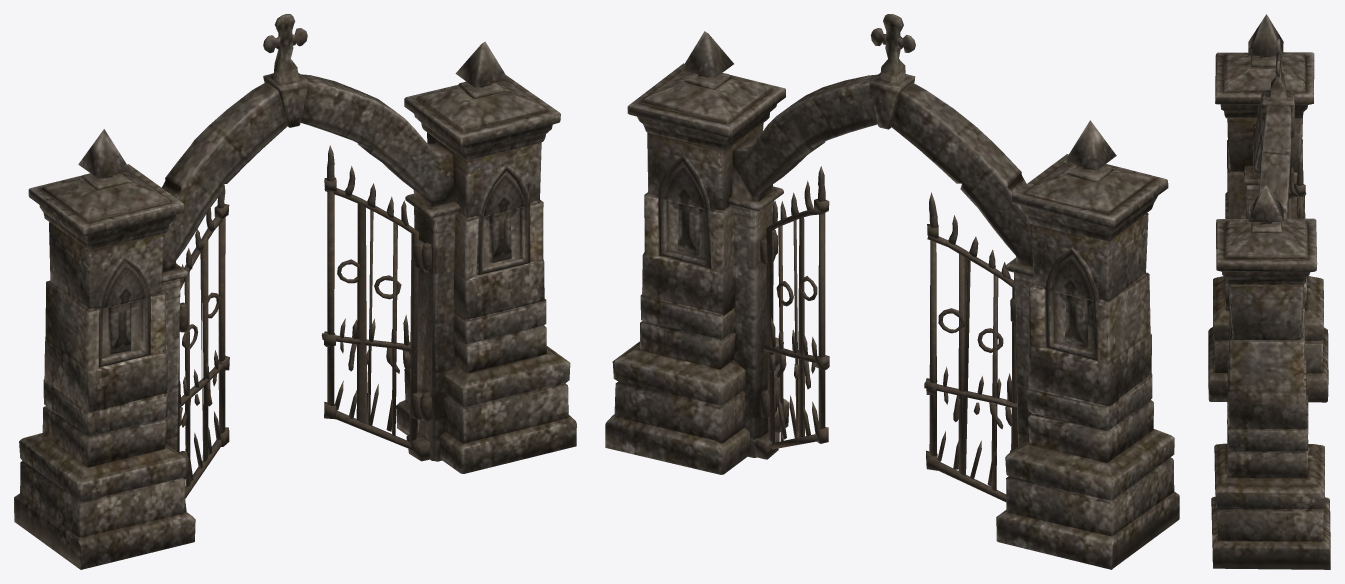
Rendered from h_arch_gate.glb.
The picture shows the model from 3 angles, left to right: view 1: azimuth 30°, elevation 25°; view 2: azimuth 150°, elevation 25°; view 3: azimuth 270°, elevation 25°; orthographic projection. The views are drawn at different scales.
Visible parts, largest first — view 1: h_arch_gate; view 2: h_arch_gate; view 3: h_arch_gate.
Boxes of the visible parts, x1,y1,x2,y2 form: h_arch_gate: (14,14,576,569); h_arch_gate: (605,14,1179,569); h_arch_gate: (1208,14,1330,569).
Bounding box in the file's own units: 4.22 × 3.8 × 1.
Materials: 1 (1 with a texture image).
